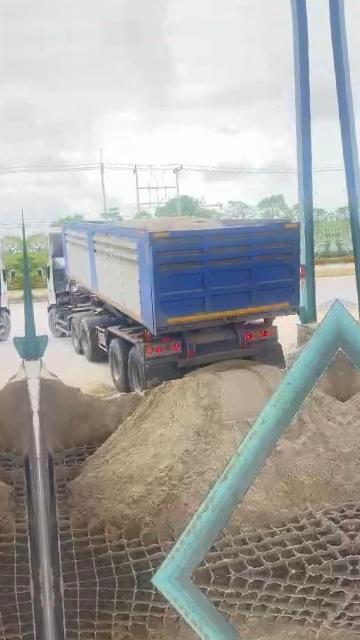sand: (70, 362, 283, 535), (234, 390, 349, 525), (41, 370, 142, 450), (116, 215, 229, 231), (319, 349, 344, 402), (286, 345, 303, 367)
